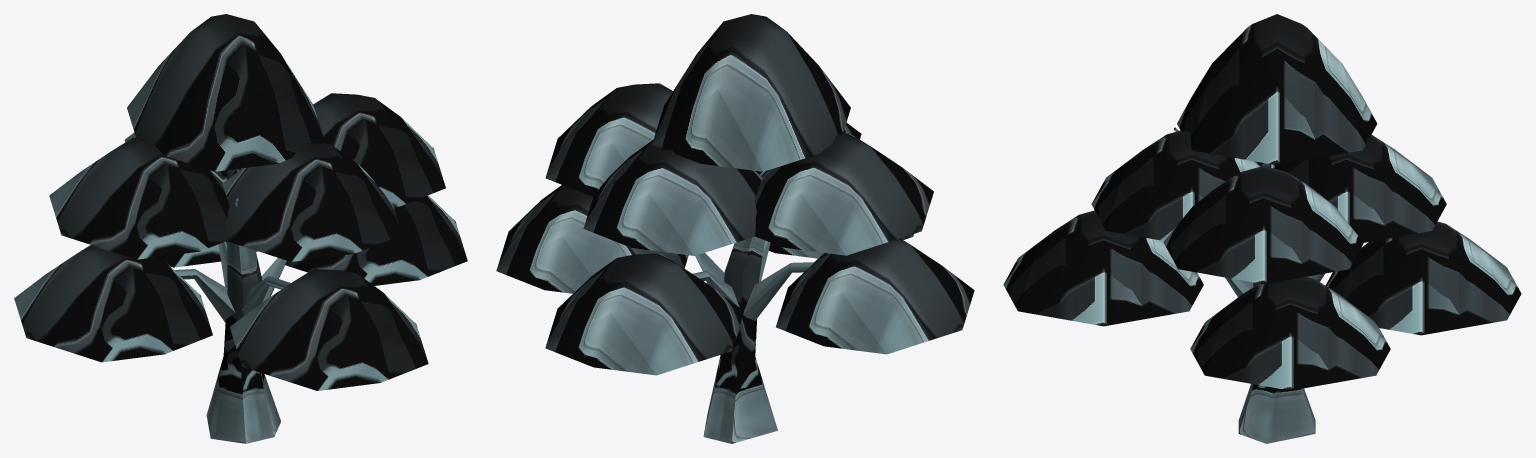
The picture shows the model from 3 angles, left to right: view 1: azimuth 30°, elevation 25°; view 2: azimuth 150°, elevation 25°; view 3: azimuth 270°, elevation 25°; orthographic projection. The views are drawn at different scales.
Parts seen in each view (by area): view 1: 2_Cluster10, 1_Trunk; view 2: 2_Cluster10, 1_Trunk; view 3: 2_Cluster10, 1_Trunk.
Boxes of the visible parts, left/top/right/bottom form: 2_Cluster10: left=14, top=14, right=467, bottom=390; 1_Trunk: left=174, top=168, right=290, bottom=443; 2_Cluster10: left=496, top=14, right=974, bottom=375; 1_Trunk: left=692, top=171, right=813, bottom=443; 2_Cluster10: left=1003, top=14, right=1521, bottom=390; 1_Trunk: left=1174, top=127, right=1324, bottom=443.
Size of the model in its own units: 146 by 131 by 152.
1 material, 1 textured.
